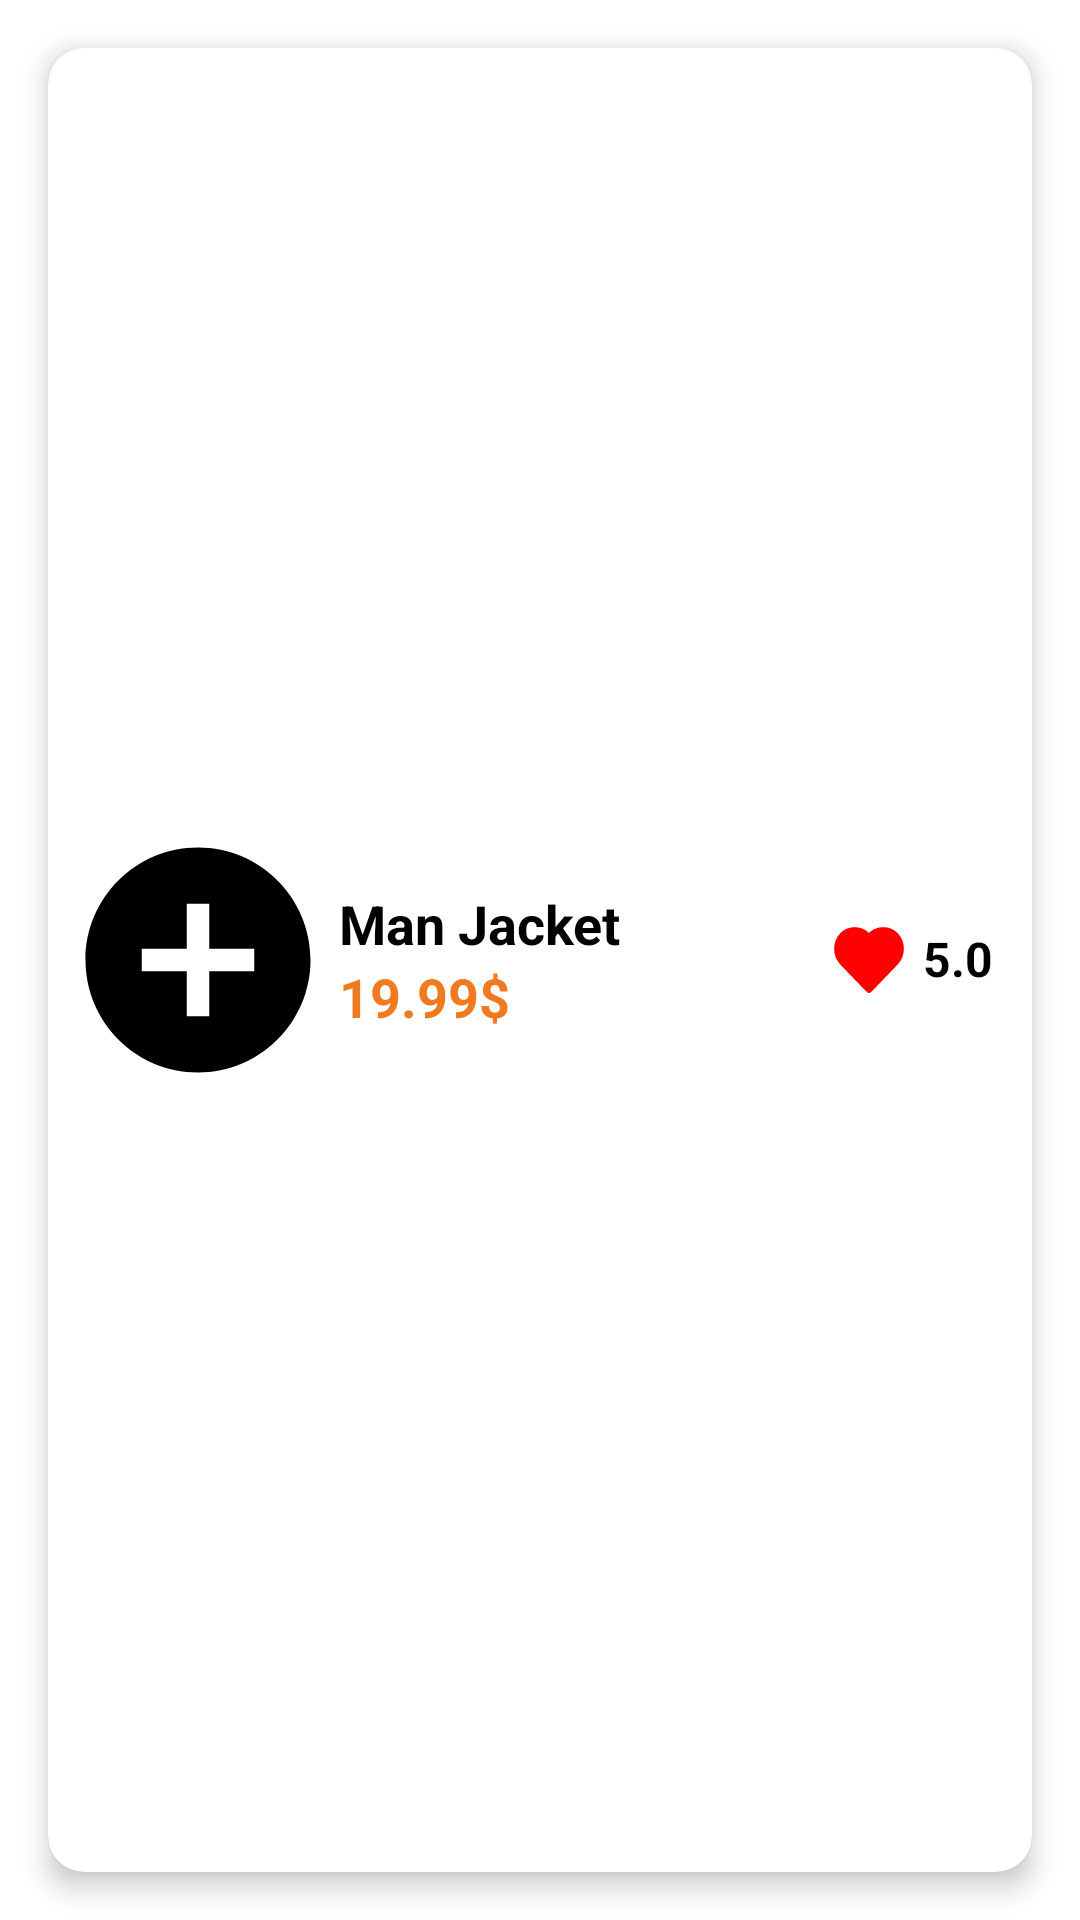

Locate icon controls on the screen. Image size 1080 × 1920, boxes as (x1, y1, x2, y2).
add circle: (85, 847, 311, 1073)
favorite: (834, 927, 904, 993)
